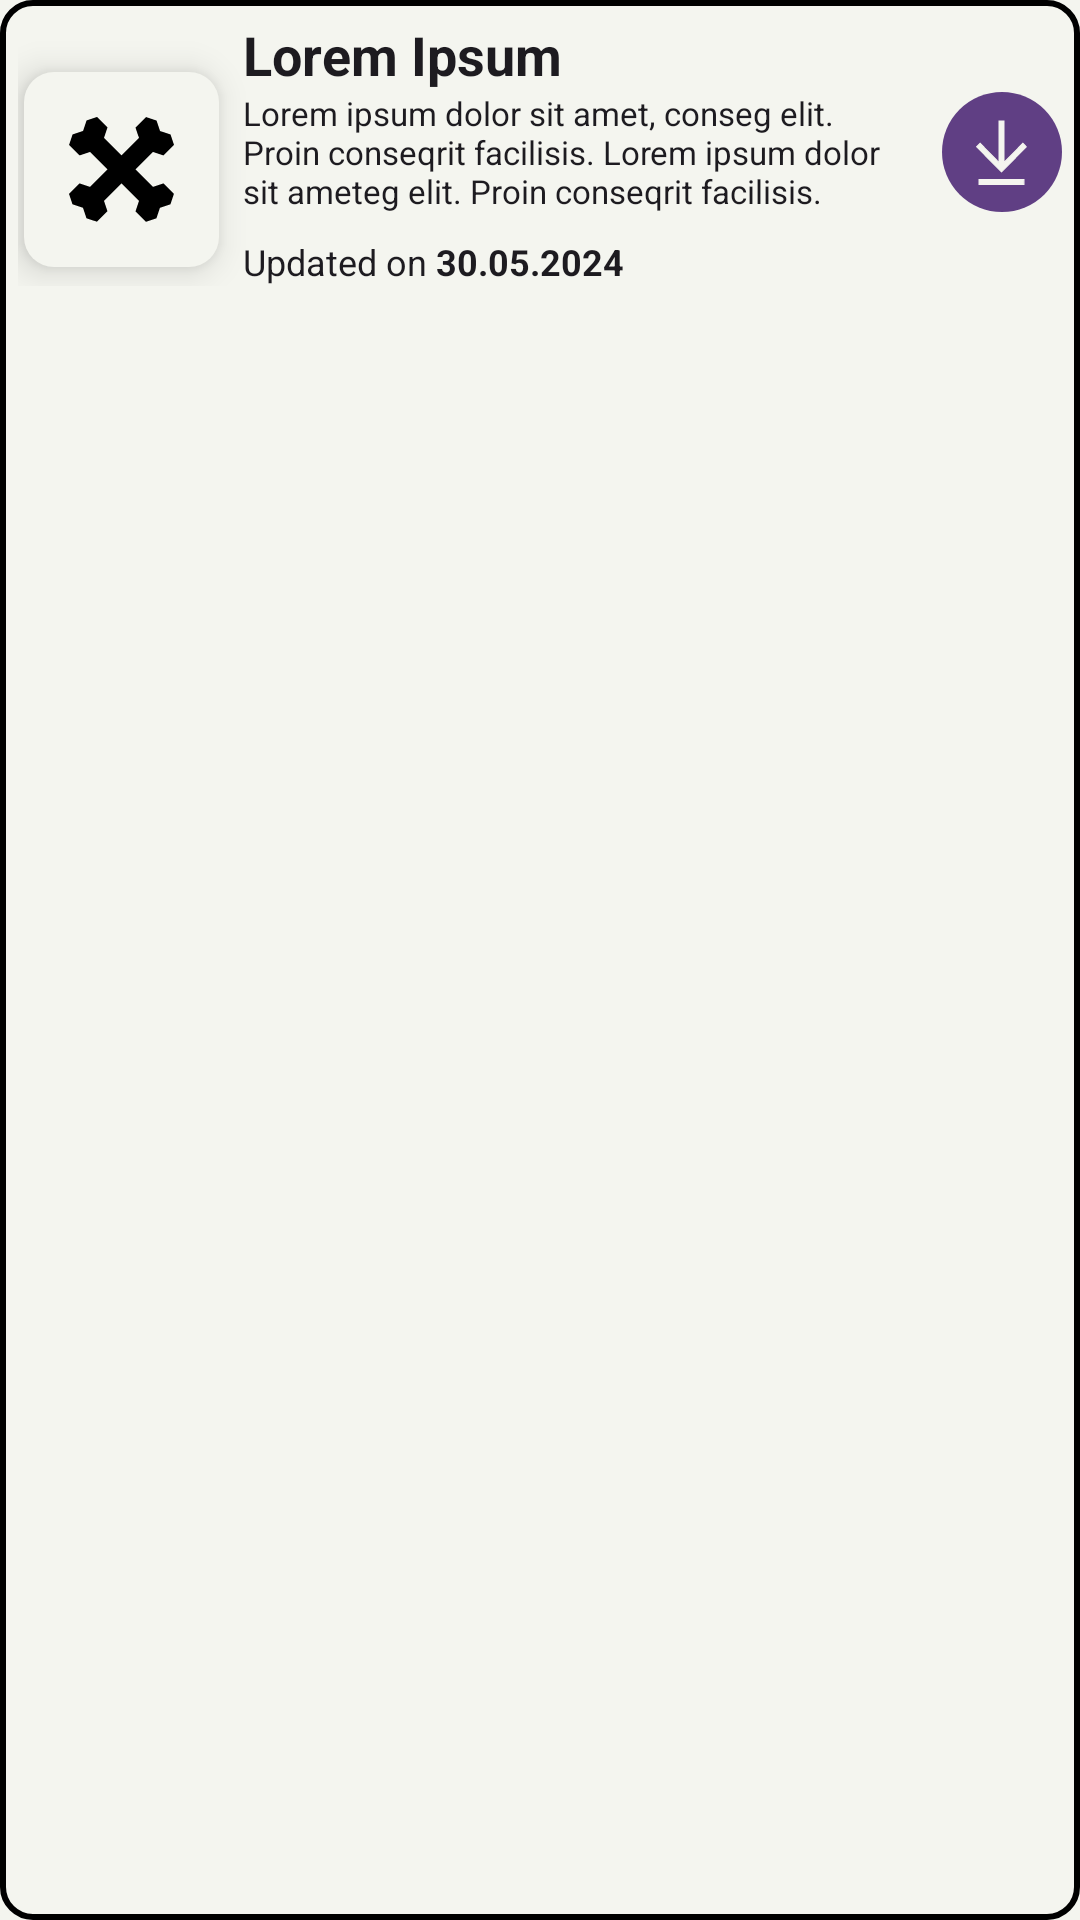

Where icons sit on this 1080w x 1920h app screen, as (x1, y1, x2, y2):
Download: (942, 92, 1062, 212)
